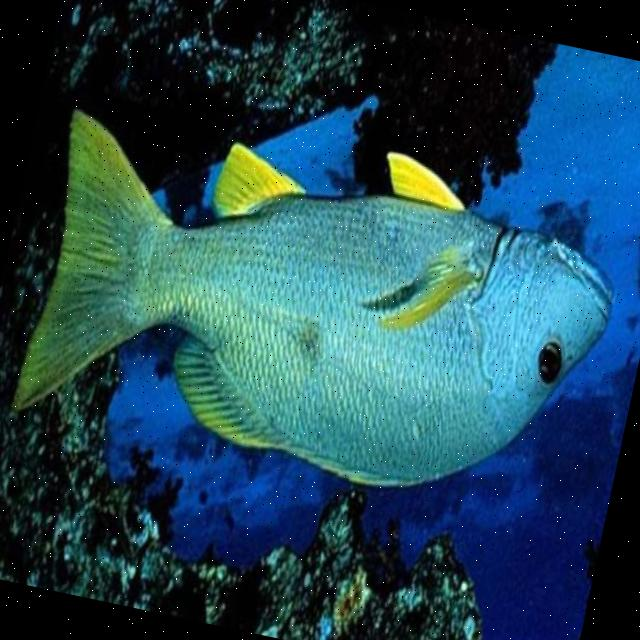ikan: (4, 71, 638, 534)
